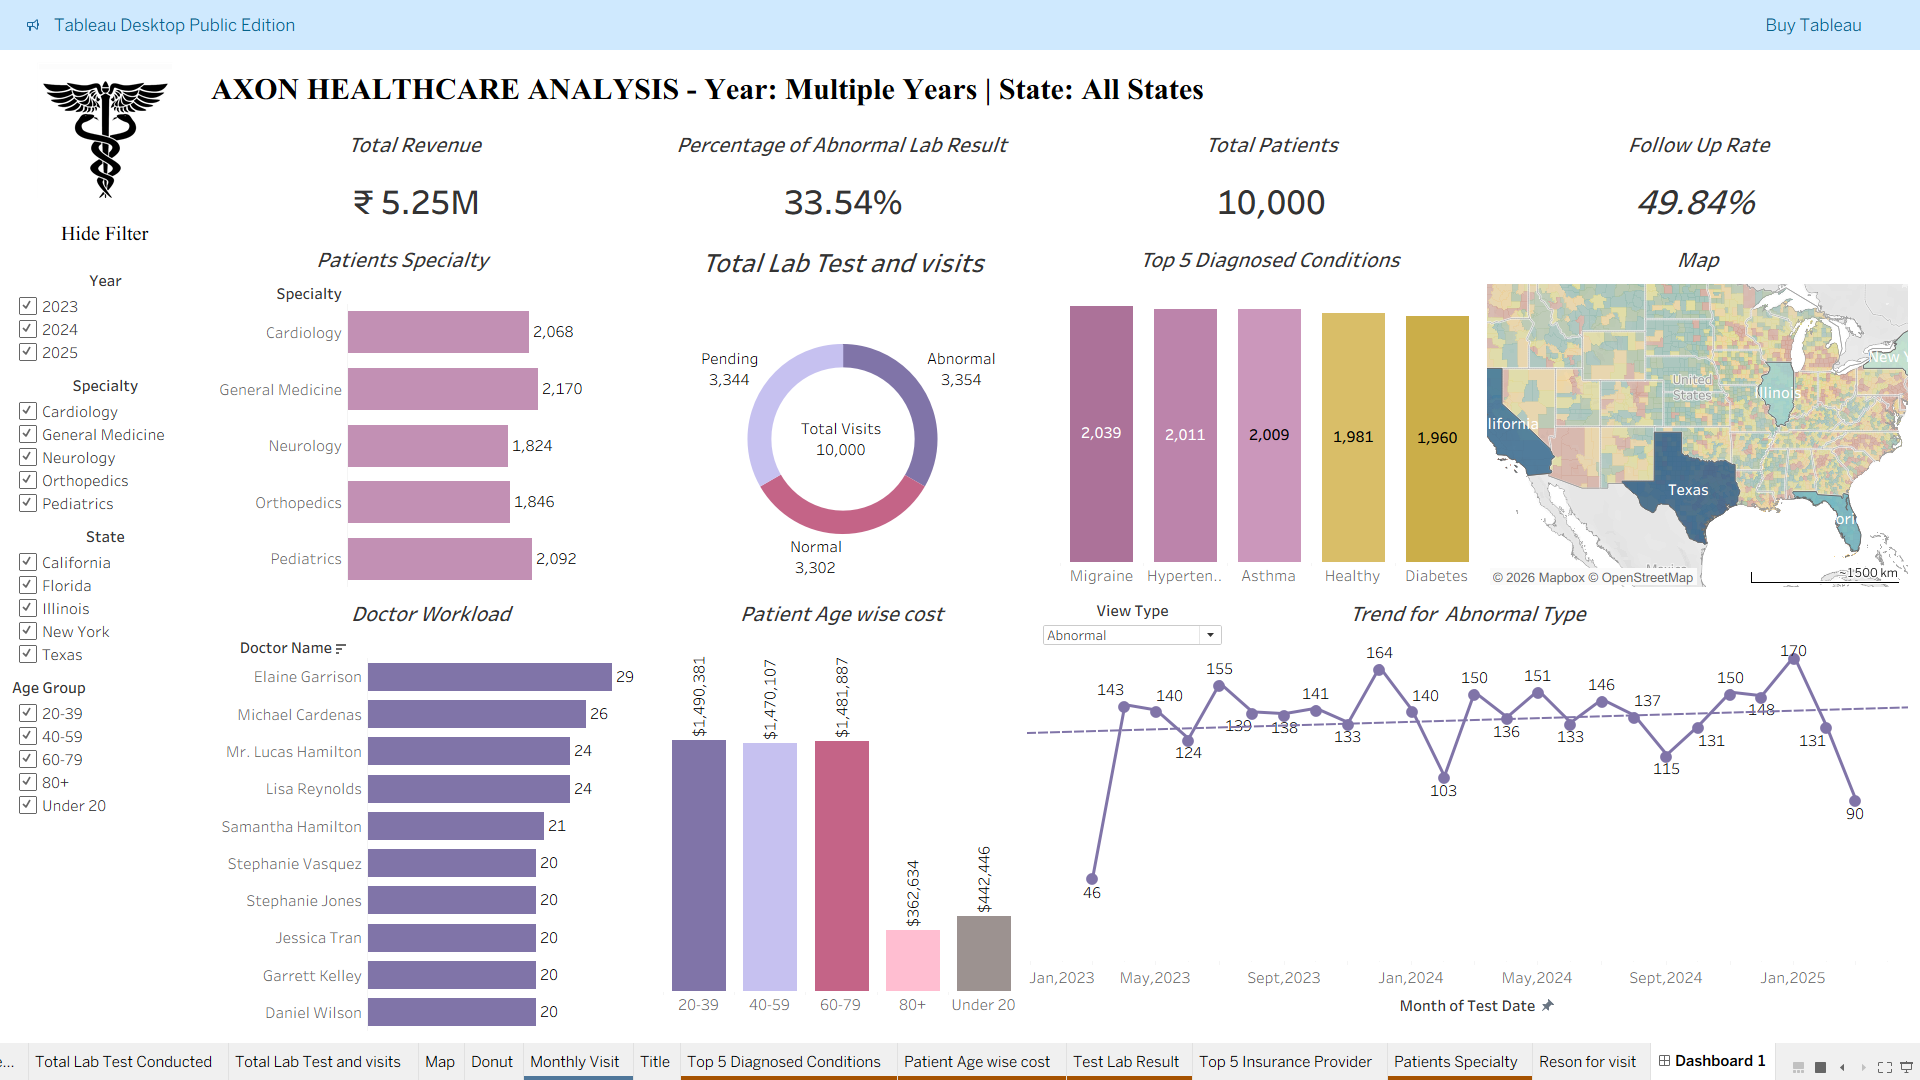

The page's visual inventory and layout, read from the dashboard file:
{"tool":"tableau","page":{"name":"Dashboard 1","canvas":[1000,1000],"units":"permille","ordinal":0},"visuals":[{"type":"image","param":"Image/download (3).jfif","box":[4.8,9.3,101.6,144.7]},{"type":"worksheet","title":"Title","mark":"Automatic","box":[106.4,9.3,888.7,64.4]},{"type":"worksheet","title":"Total Revenue ","mark":"Automatic","box":[106.4,73.7,222.2,115.2]},{"type":"worksheet","title":"Percentage of Abnormal Lab Result ","mark":"Automatic","box":[328.6,73.7,222.2,115.2]},{"type":"worksheet","title":"Total Patients","mark":"Automatic","box":[550.8,73.7,222.2,115.2]},{"type":"worksheet","title":"Follow up rate","mark":"Automatic","box":[773,73.7,222.2,115.2]},{"type":"dashboard-object","box":[4.8,154,101.6,64]},{"type":"worksheet","title":"Patients Specialty","mark":"Automatic","rows":["Specialty"],"cols":["Patient ID"],"box":[106.4,188.9,221.4,355.7]},{"type":"worksheet","title":"Total Lab Test and visits","mark":"Circle","rows":["Calculation_0152870083260416","Calculation_0152870083260416"],"box":[327.8,188.9,222.1,355.7]},{"type":"worksheet","title":"Top 5 Diagnosed Conditions","mark":"Automatic","rows":["Patient ID (Patient)"],"cols":["Diagnosis"],"box":[550,188.9,222.4,355.7]},{"type":"worksheet","title":"Map","mark":"Multipolygon","box":[772.3,188.9,222.9,355.7]},{"type":"filter","title":"Test Lab Result","param":"[federated.066db8514u83kl10j7eul0tmil3v].[yr:Test Date:ok]","box":[4.8,217.9,101.6,122]},{"type":"filter","title":"Patients Specialty","param":"[federated.066db8514u83kl10j7eul0tmil3v].[none:Specialty:nk]","box":[4.8,339.9,101.6,175.4]},{"type":"filter","title":"Map","param":"[federated.066db8514u83kl10j7eul0tmil3v].[none:State:nk]","box":[4.8,515.3,101.6,175.4]},{"type":"worksheet","title":"Doctor Workload","mark":"Automatic","rows":["Doctor Name"],"cols":["Patient ID (Patient)"],"box":[106.4,544.5,237,446.2]},{"type":"worksheet","title":"Patient Age wise cost","mark":"Automatic","rows":["Treatment Cost"],"cols":["Calculation_0152870094036994"],"box":[343.4,544.5,189.6,446.2]},{"type":"worksheet","title":"Test Lab Result","mark":"Line","rows":["Test Result","Test Result"],"cols":["Test Date"],"box":[533,544.5,462.2,446.2]},{"type":"parameter","param":"[Parameters].[Parameter 1]","box":[541.6,554,96.5,55.8]},{"type":"filter","title":"Patient Age wise cost","param":"[federated.066db8514u83kl10j7eul0tmil3v].[none:Calculation_0152870094036994:nk]","box":[4.8,690.6,101.6,175.4]}]}

Visuals, with their boxes on the dashboard's canvas, which has no fixed pixel size, in thousandths of its width and height (x1, y1, x2, y2). These are canvas units, not pixel positions in the 1920x1080 screenshot, which may show the page scaled, cropped or inside an application window:
image: bbox=(5, 9, 106, 154)
"Title" worksheet: bbox=(106, 9, 995, 74)
"Total Revenue " worksheet: bbox=(106, 74, 329, 189)
"Percentage of Abnormal Lab Result " worksheet: bbox=(329, 74, 551, 189)
"Total Patients" worksheet: bbox=(551, 74, 773, 189)
"Follow up rate" worksheet: bbox=(773, 74, 995, 189)
dashboard-object: bbox=(5, 154, 106, 218)
"Patients Specialty" worksheet: bbox=(106, 189, 328, 545)
"Total Lab Test and visits" worksheet (Circle marks): bbox=(328, 189, 550, 545)
"Top 5 Diagnosed Conditions" worksheet: bbox=(550, 189, 772, 545)
"Map" worksheet (Multipolygon marks): bbox=(772, 189, 995, 545)
"Test Lab Result" filter: bbox=(5, 218, 106, 340)
"Patients Specialty" filter: bbox=(5, 340, 106, 515)
"Map" filter: bbox=(5, 515, 106, 691)
"Doctor Workload" worksheet: bbox=(106, 544, 343, 991)
"Patient Age wise cost" worksheet: bbox=(343, 544, 533, 991)
"Test Lab Result" worksheet (Line marks): bbox=(533, 544, 995, 991)
parameter: bbox=(542, 554, 638, 610)
"Patient Age wise cost" filter: bbox=(5, 691, 106, 866)
